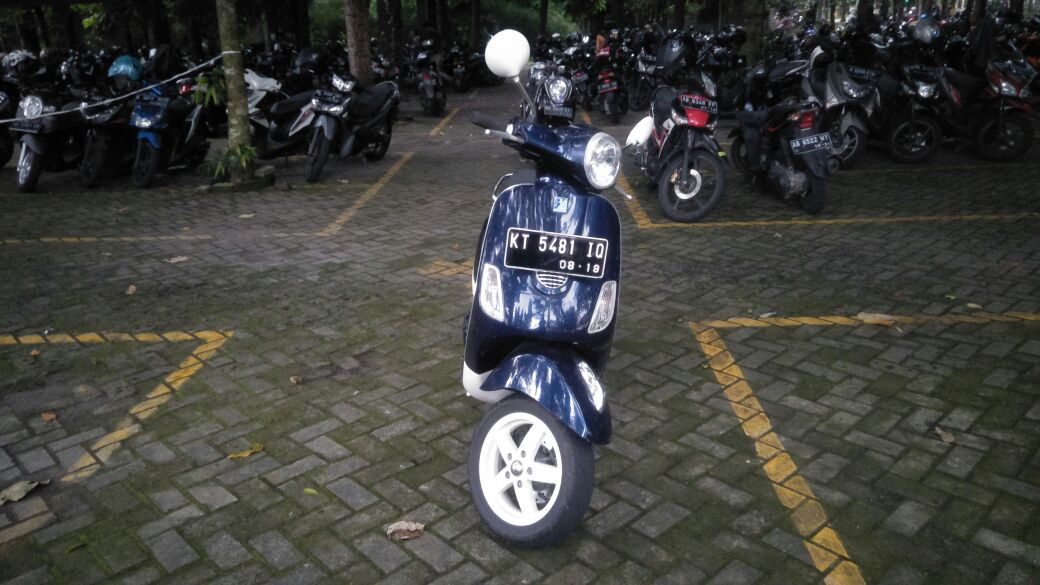plate: (503, 227, 609, 281)
